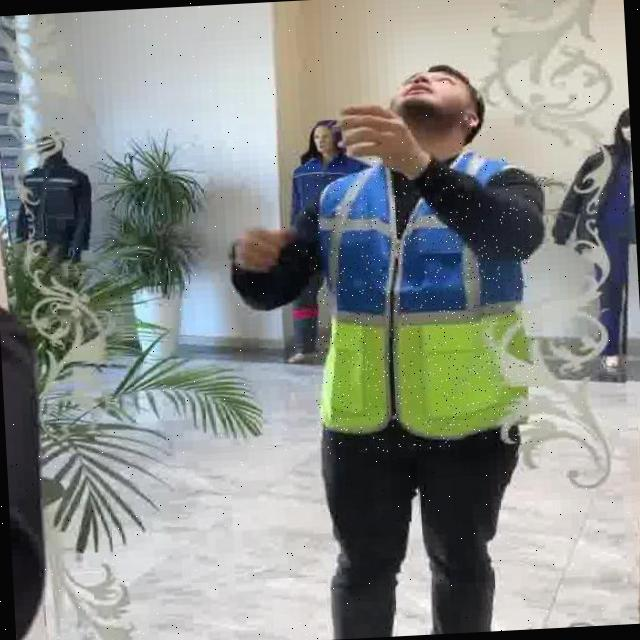vest: (302, 150, 542, 455)
